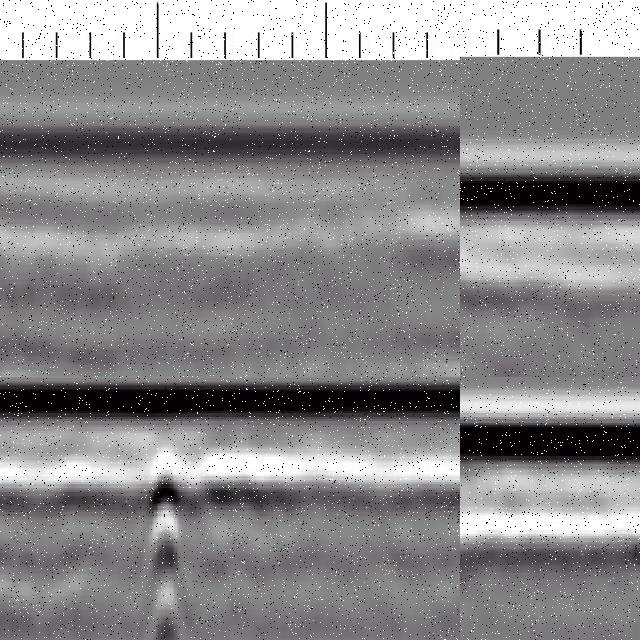crack: (145, 437, 181, 640), (461, 512, 480, 640)
loose: (461, 234, 604, 378)
